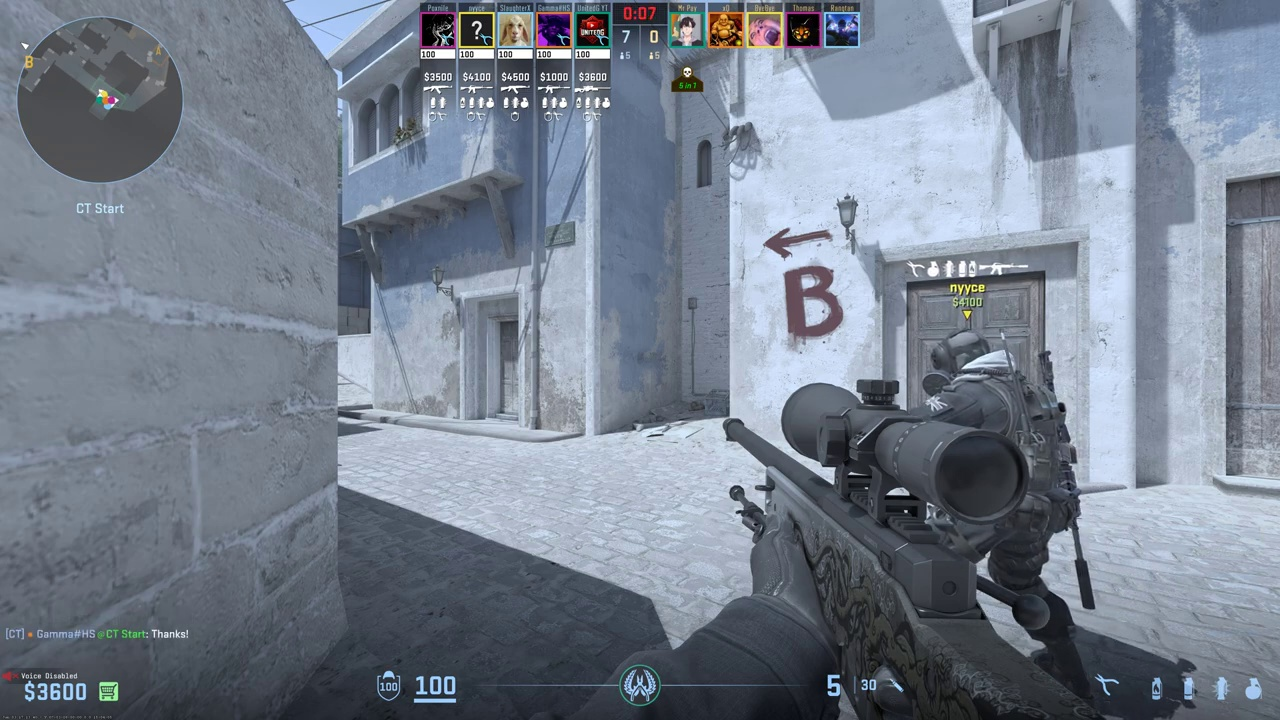CT: (914, 327, 1078, 670)
